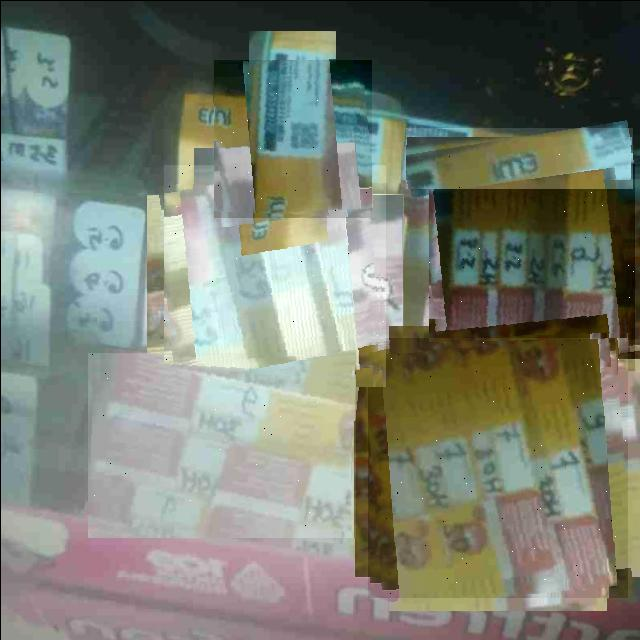im3: (367, 337, 627, 597), (87, 352, 355, 537), (163, 164, 385, 386), (428, 163, 634, 370), (213, 59, 371, 217), (405, 127, 632, 188)
